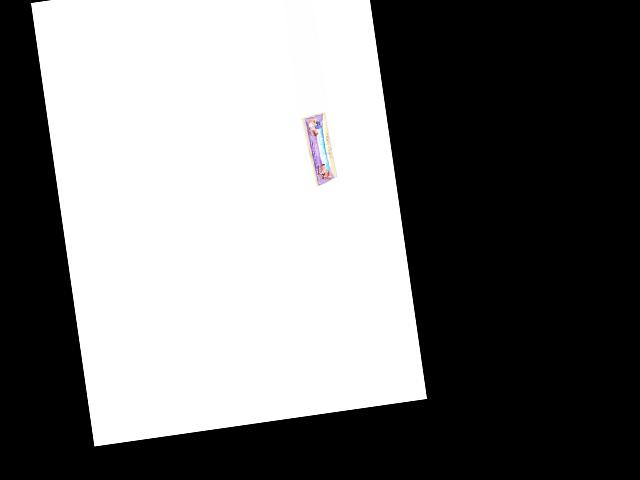chocolate: (300, 112, 335, 190)
